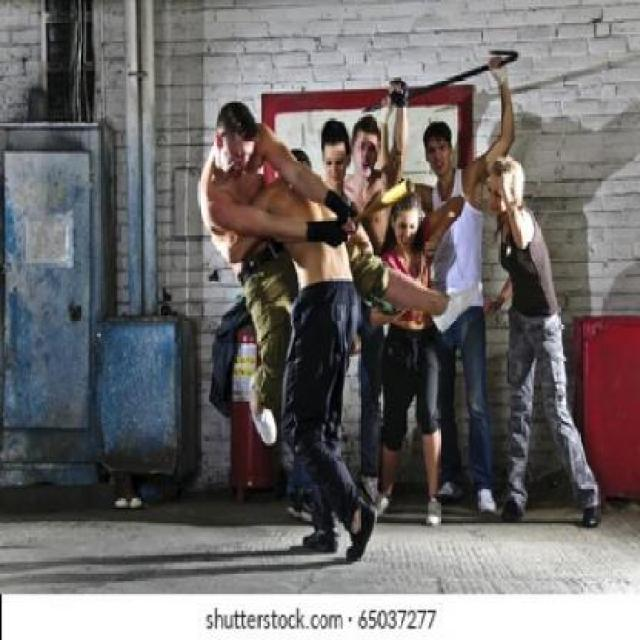fight: (175, 95, 427, 574), (445, 90, 633, 547)
